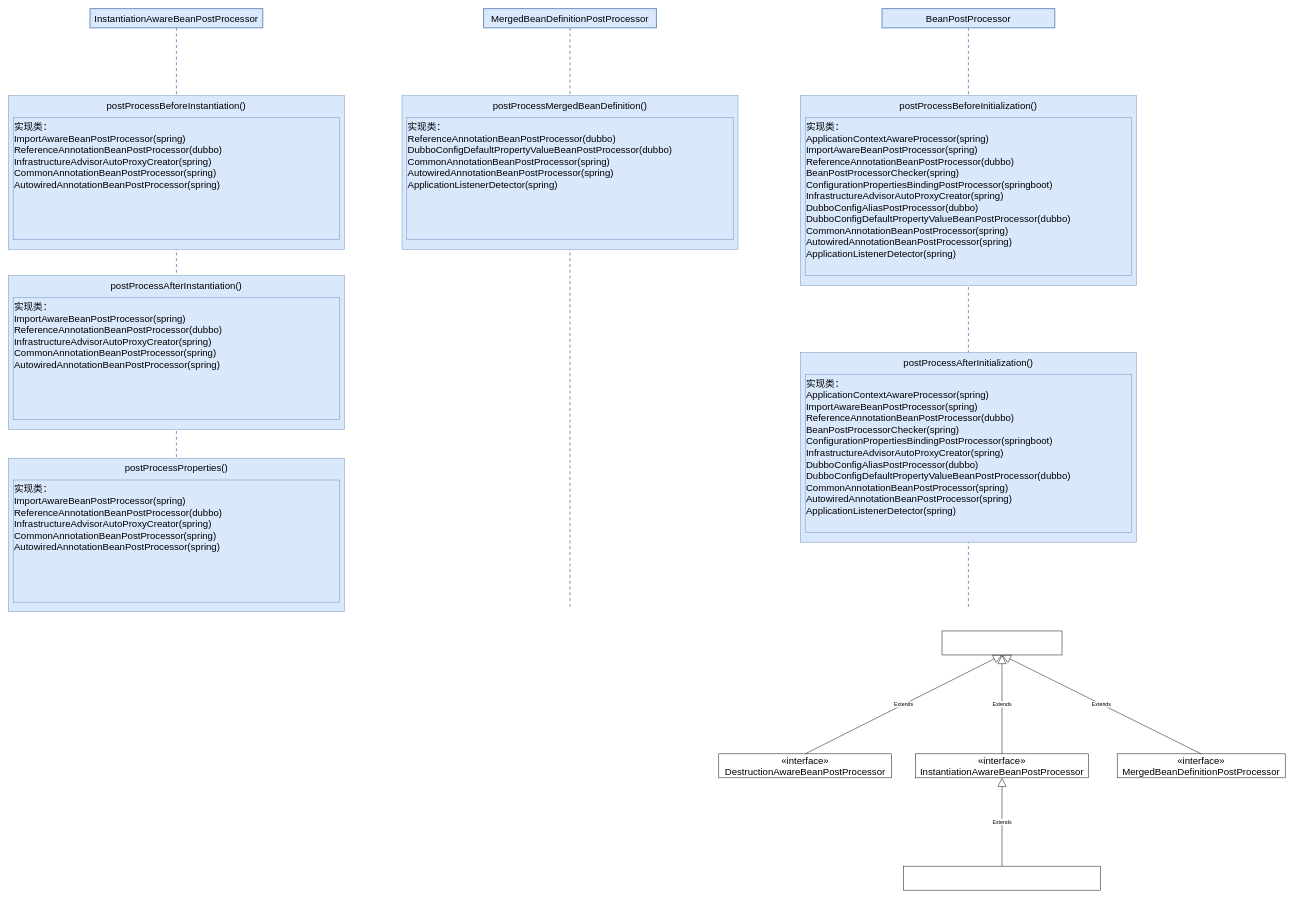
The diagram is 1294 pixels wide and 899 high, and some of its shapes have lost their labels. The shapes that lost their labels are listed below. From the top down, each one's centre as x and y in pixels, then its label:
point 1002,642: «interface» BeanPostProcessor
point 1001,878: «interface» SmartInstantiationAwareBeanPostProcessor
